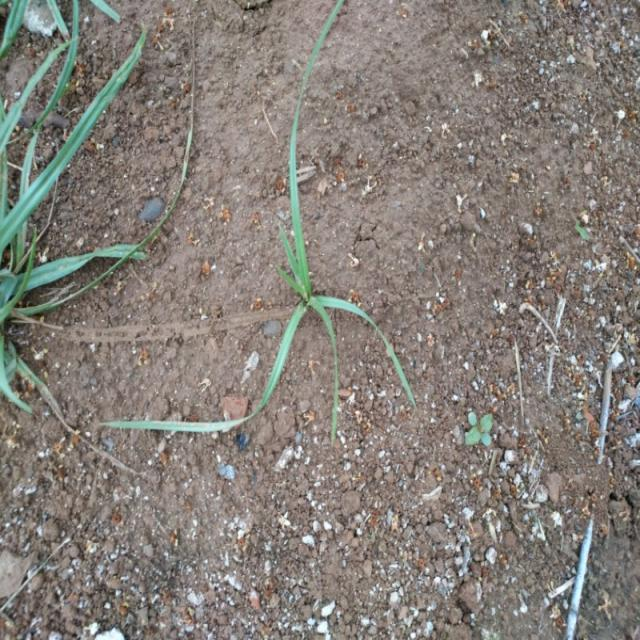sedge: (198, 22, 414, 433)
